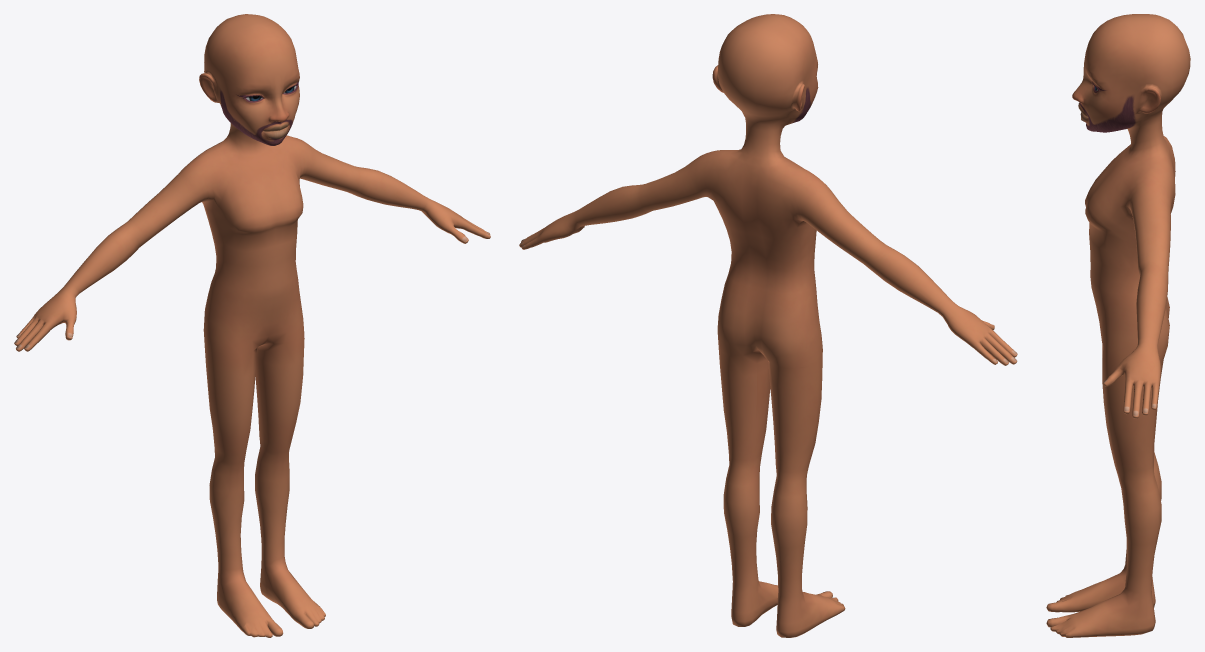
The model's file is frame_0090.glb.
3 renders of one model, left to right at view 1: azimuth 30°, elevation 25°; view 2: azimuth 150°, elevation 25°; view 3: azimuth 270°, elevation 25°, orthographic. The views are drawn at different scales.
Parts seen in each view (by area): view 1: frame_0090_head_geo; view 2: frame_0090_head_geo; view 3: frame_0090_head_geo.
Boxes of the visible parts, left/top/right/bottom form: frame_0090_head_geo: left=14, top=14, right=490, bottom=637; frame_0090_head_geo: left=519, top=14, right=1017, bottom=637; frame_0090_head_geo: left=1046, top=14, right=1190, bottom=637.
Size of the model in its own units: 1.28 by 1.5 by 0.3253.
Materials: 3 (3 with a texture image).
